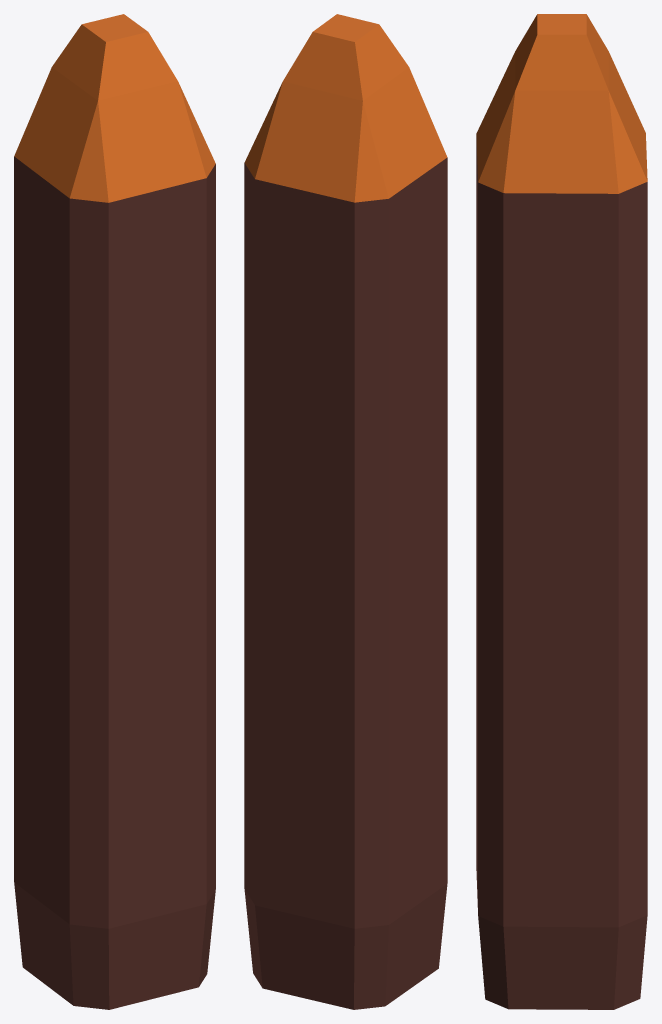
File: pillar_high.fbx
The picture shows the model from 3 angles, left to right: view 1: azimuth 30°, elevation 25°; view 2: azimuth 150°, elevation 25°; view 3: azimuth 270°, elevation 25°; orthographic projection.
Visible parts, largest first — view 1: Cube.006; view 2: Cube.006; view 3: Cube.006.
Part boxes in pixels (left/top/right/bottom): Cube.006: left=14, top=14, right=215, bottom=1009; Cube.006: left=244, top=14, right=447, bottom=1009; Cube.006: left=476, top=14, right=647, bottom=1009.
Bounding box in the file's own units: 43.58 × 267 × 43.58.
